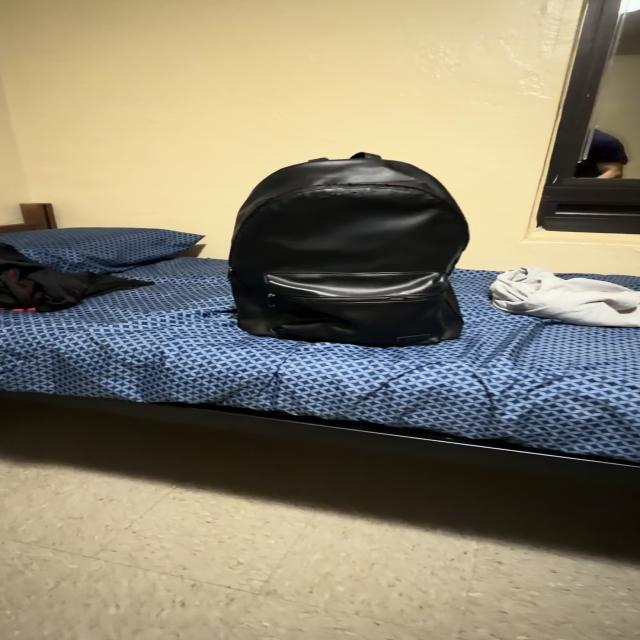backpack: (229, 153, 468, 346)
